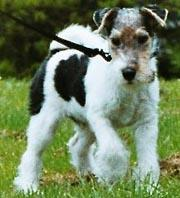wire-haired_fox_terrier: (14, 4, 170, 197)
